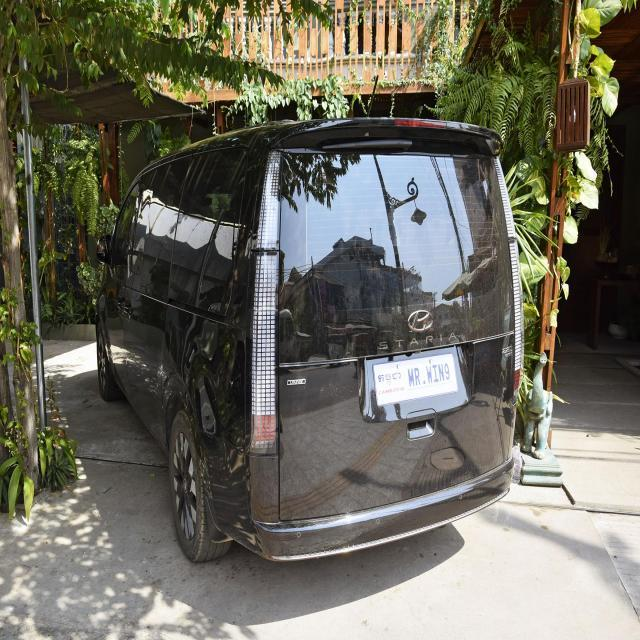Cambodia: (377, 369, 402, 386)
